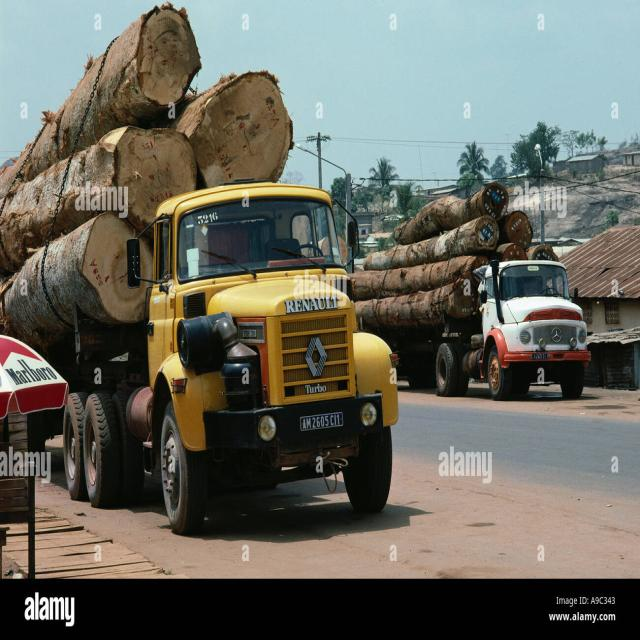Truck: (43, 175, 403, 510), (405, 250, 596, 392)
